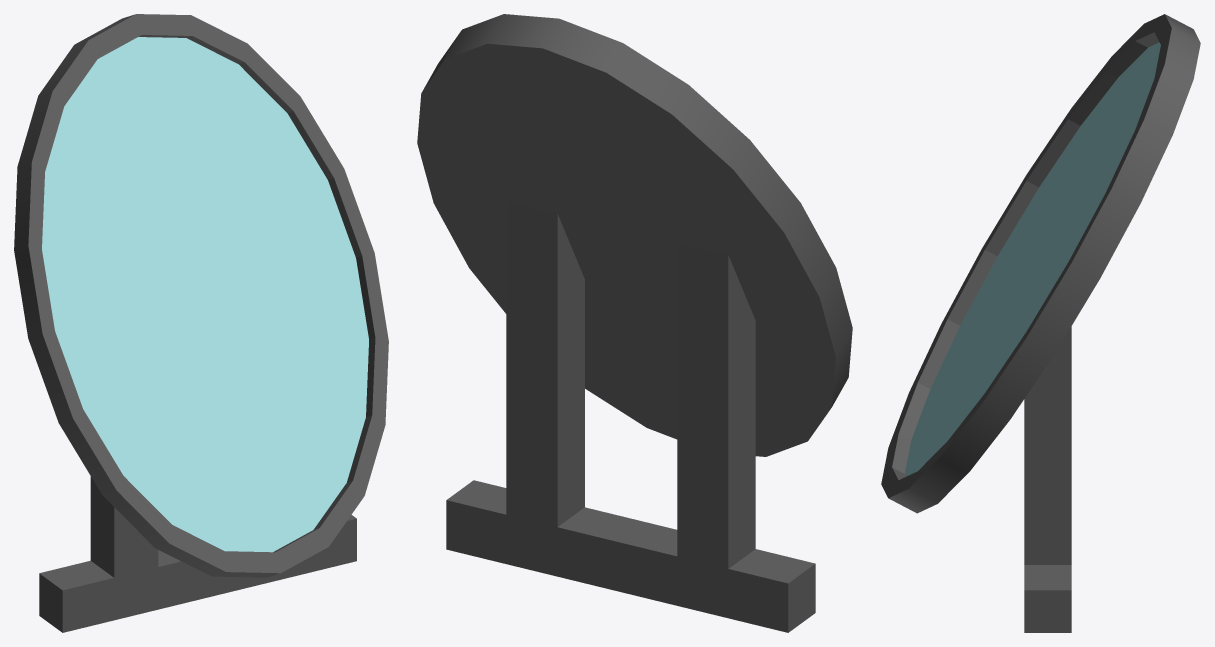
Rendered from StandingMirror.fbx.
3 views of the same model, side by side, from view 1: azimuth 30°, elevation 25°; view 2: azimuth 150°, elevation 25°; view 3: azimuth 270°, elevation 25° (orthographic). The views are drawn at different scales.
Parts seen in each view (by area): view 1: StandingMirror; view 2: StandingMirror; view 3: StandingMirror.
Part boxes in pixels (bbox=[...]): StandingMirror: bbox=[14, 14, 388, 632]; StandingMirror: bbox=[417, 14, 852, 632]; StandingMirror: bbox=[881, 14, 1200, 632].
Bounding box in the file's own units: 23.86 × 36.34 × 19.76.
